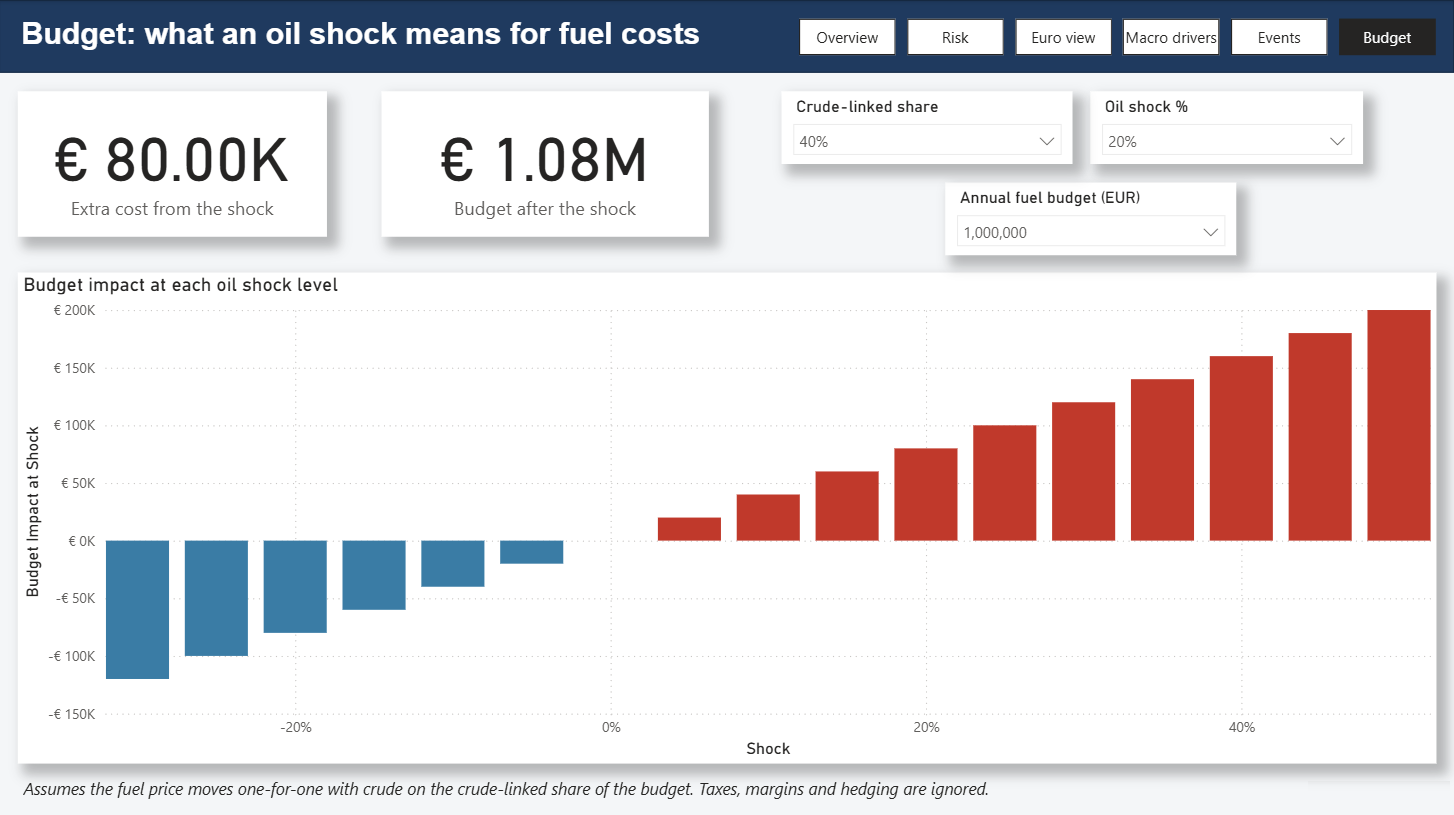

Layout of this report page (visuals, bound fields, positions):
{"tool":"powerbi","page":{"name":"Budget","canvas":[1280,720],"ordinal":6},"visuals":[{"type":"shape","box":[0,0,1280,64],"z":0},{"type":"card","fields":{"Values":["fact_daily.Budget Impact EUR"]},"box":[16,80,272,128],"z":1000},{"type":"card","fields":{"Values":["fact_daily.Budget After Shock"]},"box":[336,80,288,128],"z":2000},{"type":"clusteredColumnChart","title":"Budget impact at each oil shock level","fields":{"Category":["Shock Steps.Shock"],"Y":["fact_daily.Budget Impact at Shock"]},"box":[16,240,1248,432],"z":3000},{"type":"textbox","box":[16,678,912,32],"z":4000},{"type":"textbox","box":[0,10,768,48],"z":5000},{"type":"slicer","fields":{"Values":["Oil shock %.Oil shock %"]},"box":[960,80,240,64],"z":6000},{"type":"slicer","fields":{"Values":["Annual fuel budget (EUR).Annual fuel budget (EUR)"]},"box":[832,160,256,64],"z":7000},{"type":"slicer","fields":{"Values":["Crude-linked share.Crude-linked share"]},"box":[688,80,256,64],"z":8000},{"type":"pageNavigator","box":[704,16,560,32],"z":9000}]}

Visuals, with their boxes in screenshot pixels (x1, y1, x2, y2), scaled from the page's 1280x720 canvas onto the 1454x815 screenshot:
shape: rect(0, 0, 1453, 72)
card - fact_daily.Budget Impact EUR: rect(18, 91, 327, 235)
card - fact_daily.Budget After Shock: rect(382, 91, 709, 235)
"Budget impact at each oil shock level" clusteredColumnChart: rect(18, 272, 1436, 761)
textbox: rect(18, 767, 1054, 804)
textbox: rect(0, 11, 872, 66)
slicer - Oil shock %.Oil shock %: rect(1090, 91, 1363, 163)
slicer - Annual fuel budget (EUR).Annual fuel budget (EUR): rect(945, 181, 1236, 254)
slicer - Crude-linked share.Crude-linked share: rect(782, 91, 1072, 163)
pageNavigator: rect(800, 18, 1436, 54)
